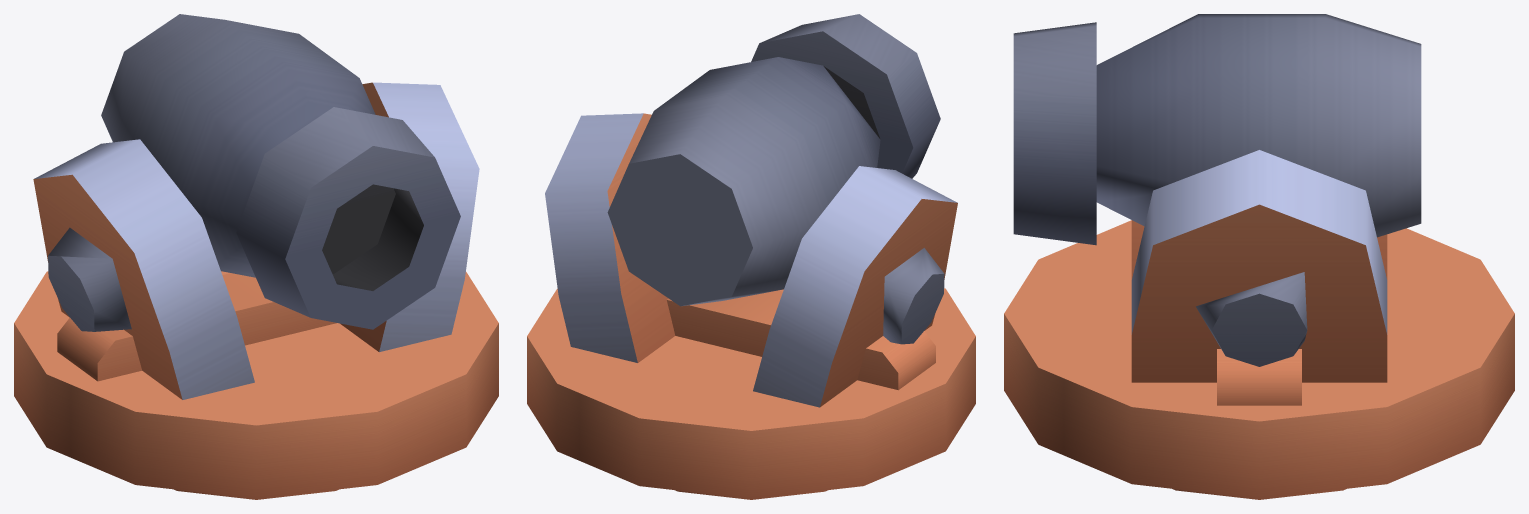
File: cc0-weapon-cannon-lod1.glb
3 views of the same model, side by side, from view 1: azimuth 30°, elevation 25°; view 2: azimuth 150°, elevation 25°; view 3: azimuth 270°, elevation 25° (orthographic). The views are drawn at different scales.
Parts seen in each view (by area): view 1: part_0; view 2: part_0; view 3: part_0.
Part boxes in pixels (<box>): part_0: <box>14,14,498,499</box>; part_0: <box>527,14,975,499</box>; part_0: <box>1004,14,1514,499</box>.
Size of the model in its own units: 0.6 by 0.5328 by 0.6.
Materials: 1 (1 with a texture image).
